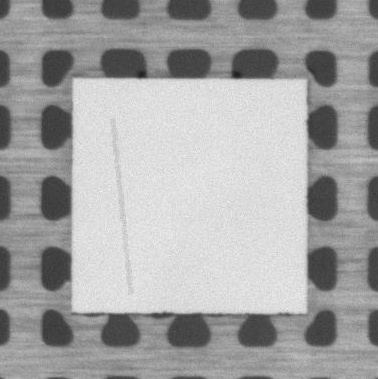DIE_CRACK: (113, 120, 131, 294)
